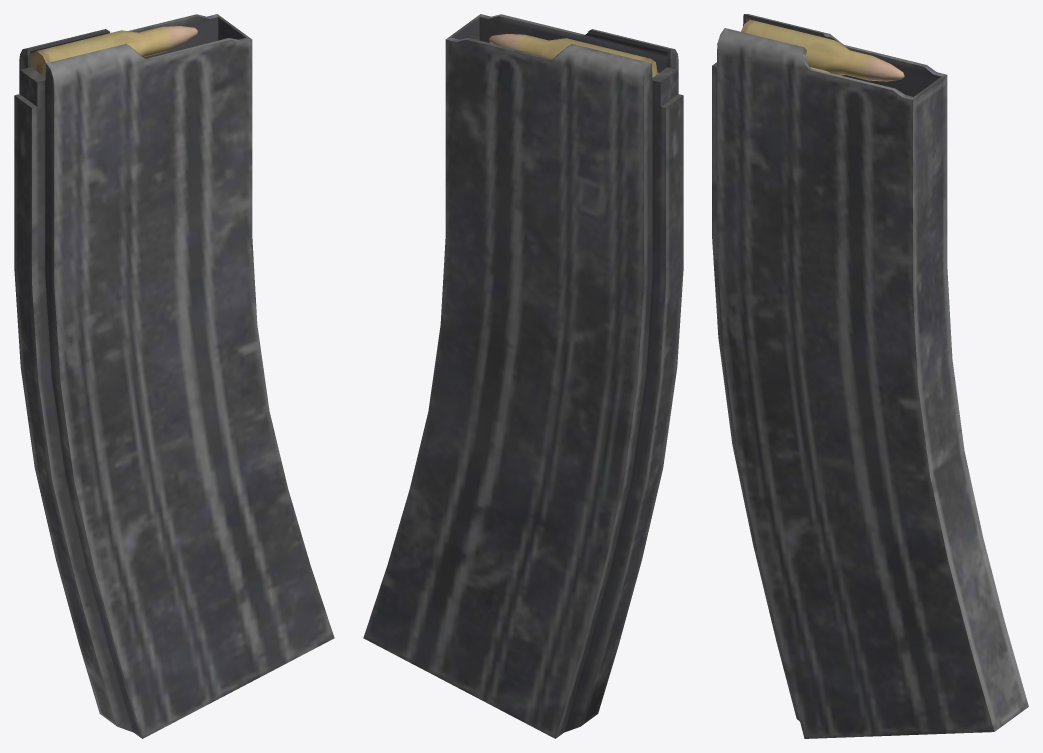
The model's file is ST_MAG_EX_Mini14.FBX.
3 renders of one model, left to right at view 1: azimuth 30°, elevation 25°; view 2: azimuth 150°, elevation 25°; view 3: azimuth 330°, elevation 25°, orthographic.
Visible parts, largest first — view 1: ST_MAG_EX_Mini14; view 2: ST_MAG_EX_Mini14; view 3: ST_MAG_EX_Mini14.
Part boxes in pixels (x1,y1,x2,y2): ST_MAG_EX_Mini14: (14,14,334,738); ST_MAG_EX_Mini14: (363,14,683,738); ST_MAG_EX_Mini14: (712,14,1028,738).
Size of the model in its own units: 8.87 by 19.92 by 1.82.
1 material, 1 textured.
